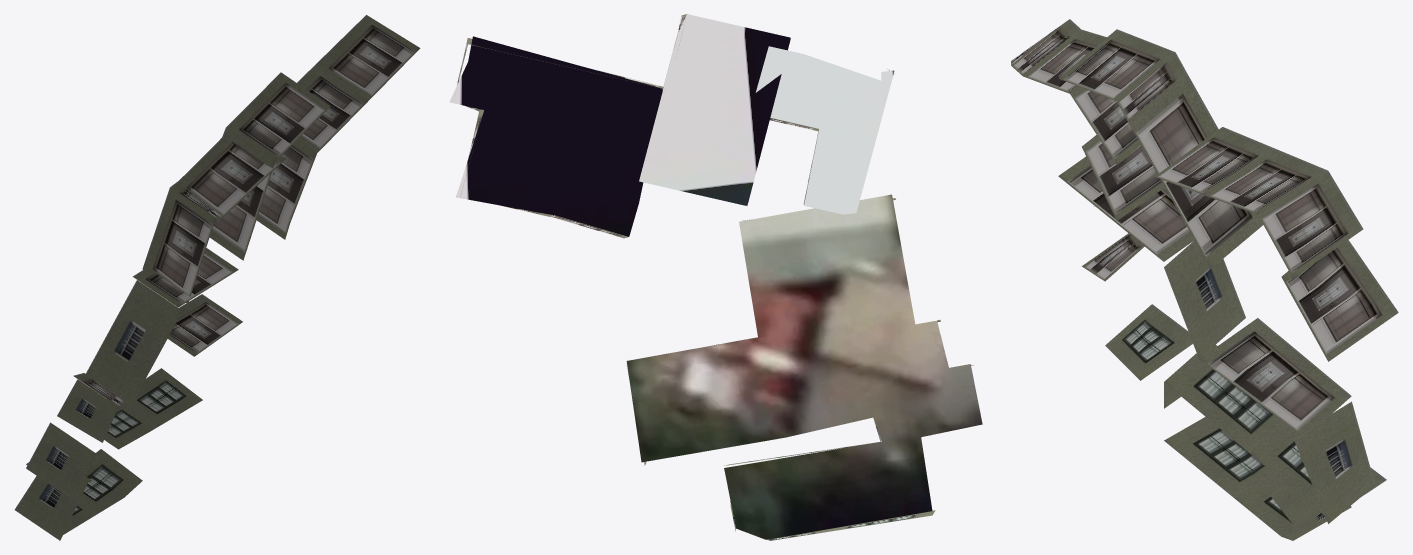
The model's file is tile_LOD4_r9_c3.glb.
The picture shows the model from 3 angles, left to right: view 1: azimuth 30°, elevation 25°; view 2: azimuth 150°, elevation 25°; view 3: azimuth 270°, elevation 25°; orthographic projection. The views are drawn at different scales.
Bounding box in the file's own units: 28 × 26.25 × 16.5.
Materials: 7 (7 with a texture image).
